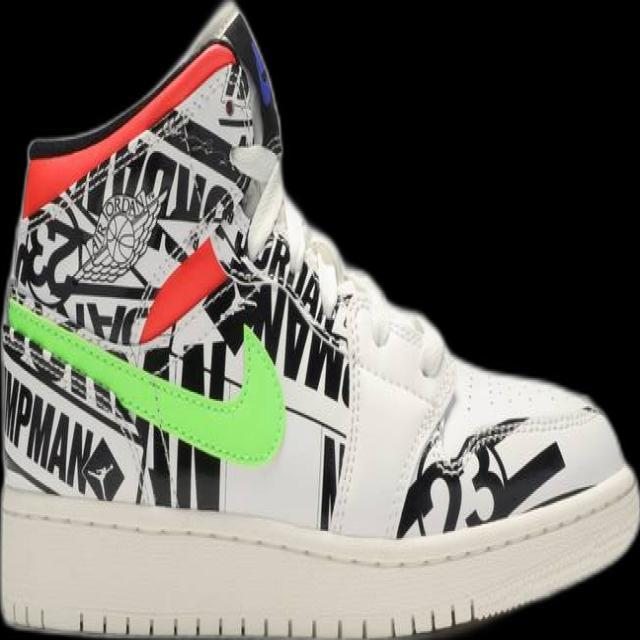J1_InsoleChar: (0, 0, 639, 639)
J1_StitchPattern: (1, 224, 355, 512), (0, 312, 224, 510), (394, 400, 604, 539), (208, 226, 356, 406), (2, 598, 500, 639), (0, 320, 141, 437)
